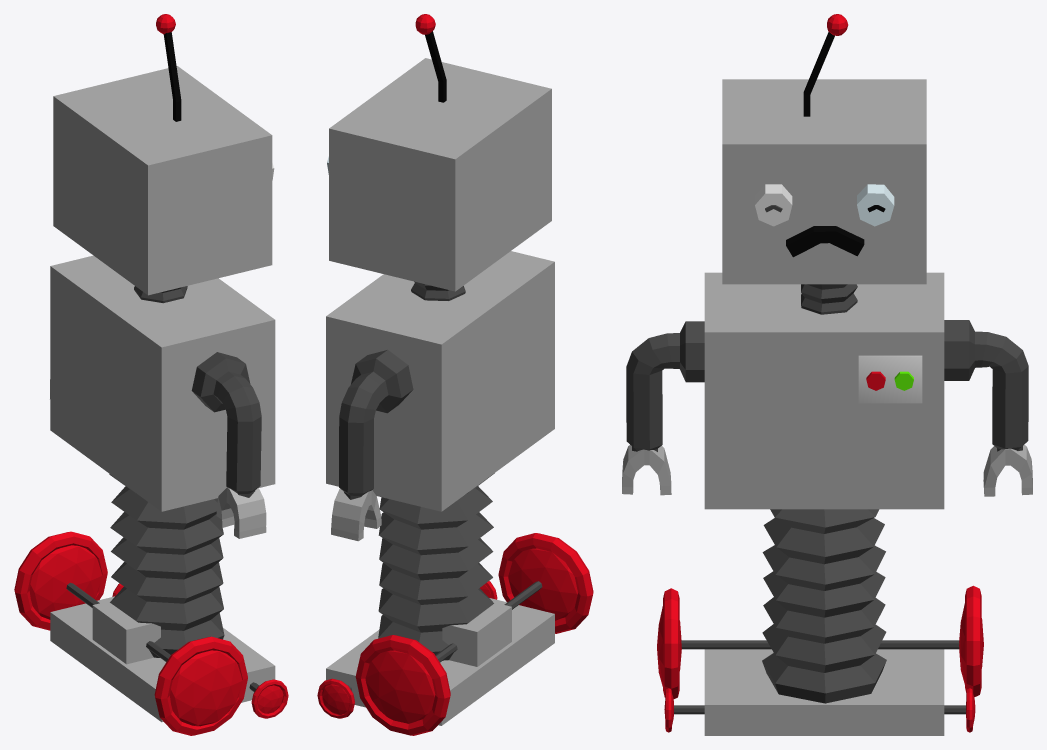
The model's file is Robot.fbx.
The picture shows the model from 3 angles, left to right: view 1: azimuth 30°, elevation 25°; view 2: azimuth 150°, elevation 25°; view 3: azimuth 270°, elevation 25°; orthographic projection. The views are drawn at different scales.
Visible parts, largest first — view 1: Cube, Cube.001, Cylinder.003, Cube.003, Icosphere.002, Cube.004, Icosphere.001, Cube.005, Icosphere.003, Cube.008, Cylinder.005, Cylinder; view 2: Cube, Cube.001, Cylinder.003, Cylinder.001, Icosphere.001, Icosphere.002, Cube.004, Cube.005, Icosphere, Cylinder, Cube.008, Cylinder.005; view 3: Cube.001, Cube, Cylinder.003, Cube.004, Cylinder.001, Cube.003, Cube.010, Icosphere.001, Icosphere.002, Cylinder.005, Cylinder, Cube.009 (+3 smaller).
Part boxes in pixels (x1,y1,x2,y2): Cube: [53, 66, 272, 295]; Cube.001: [50, 255, 275, 511]; Cylinder.003: [109, 474, 224, 657]; Cube.003: [191, 352, 266, 538]; Icosphere.002: [154, 636, 247, 735]; Cube.004: [50, 596, 275, 722]; Icosphere.001: [14, 531, 107, 630]; Cube.005: [92, 600, 160, 664]; Icosphere.003: [251, 679, 288, 718]; Cube.008: [163, 32, 181, 121]; Cylinder.005: [66, 582, 170, 661]; Cylinder: [134, 286, 187, 303]; Cube: [329, 58, 551, 291]; Cube.001: [326, 251, 554, 511]; Cylinder.003: [378, 473, 494, 660]; Cylinder.001: [331, 350, 413, 541]; Icosphere.001: [355, 635, 450, 735]; Icosphere.002: [498, 533, 593, 633]; Cube.004: [326, 598, 554, 725]; Cube.005: [442, 602, 511, 666]; Icosphere: [317, 678, 354, 718]; Cylinder: [411, 281, 465, 300]; Cube.008: [425, 31, 446, 102]; Cylinder.005: [435, 581, 542, 662]; Cube.001: [704, 272, 944, 509]; Cube: [722, 79, 926, 284]; Cylinder.003: [762, 509, 886, 703]; Cube.004: [704, 649, 944, 735]; Cylinder.001: [944, 320, 1032, 496]; Cube.003: [622, 321, 704, 495]; Cube.010: [858, 355, 922, 403]; Icosphere.001: [959, 585, 983, 697]; Icosphere.002: [657, 588, 681, 698]; Cylinder.005: [681, 640, 959, 649]; Cylinder: [801, 284, 857, 314]; Cube.009: [786, 226, 864, 257].
Size of the model in its own units: 124 by 481 by 255.
